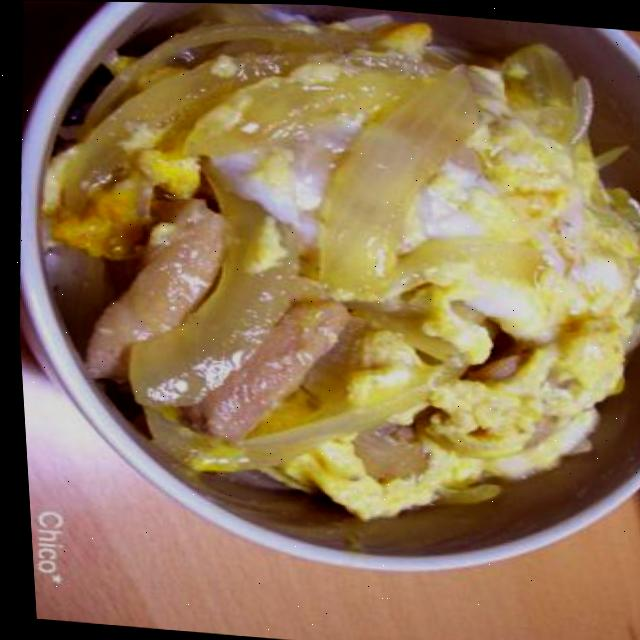米饭主食: (0, 0, 640, 549)
